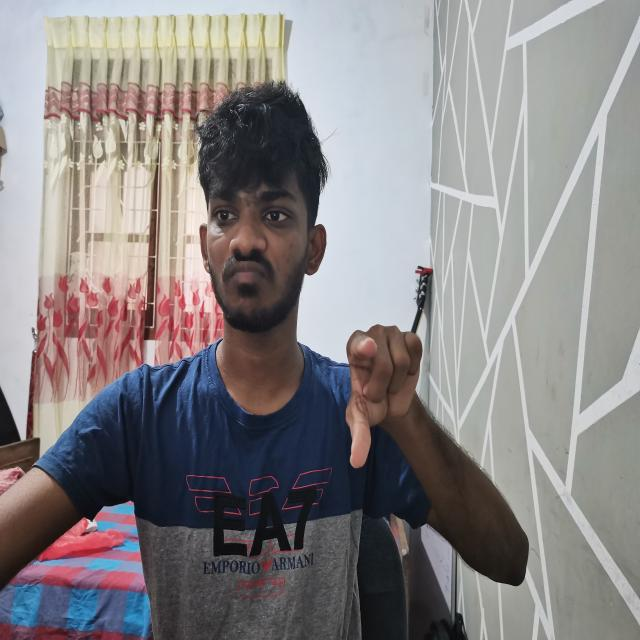No: (344, 321, 432, 471)
